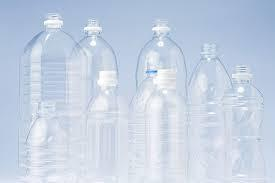Plastic bottle: (54, 6, 126, 183), (15, 8, 86, 183), (130, 7, 188, 183), (188, 37, 232, 183), (223, 61, 266, 183)
